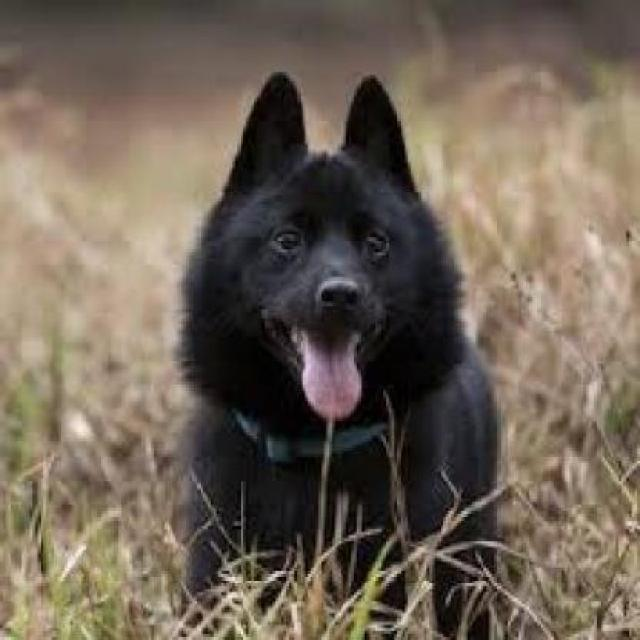animals: (161, 48, 516, 592)
